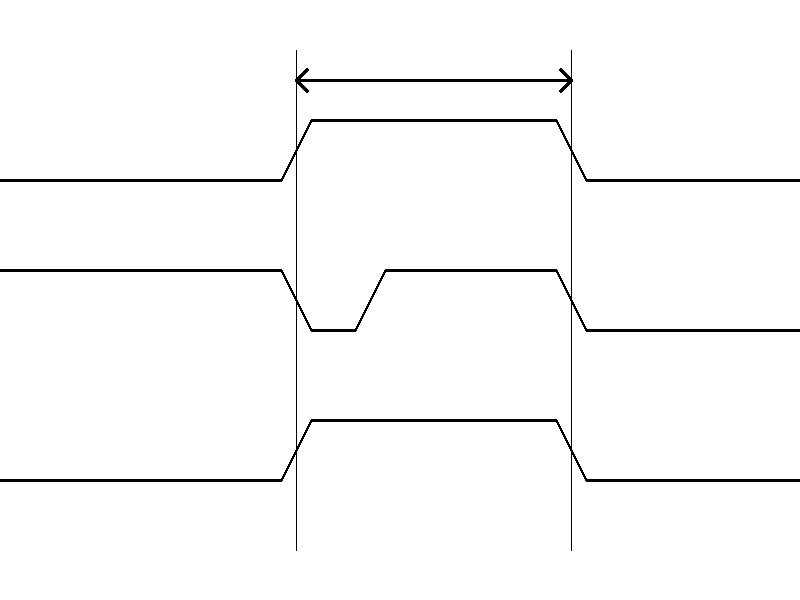double_arrow: (296, 65, 571, 95)
